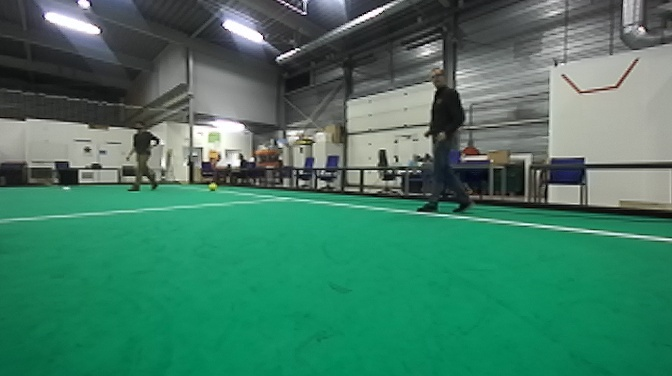ball: (208, 180, 218, 192)
human: (416, 67, 480, 218), (119, 114, 162, 194)
